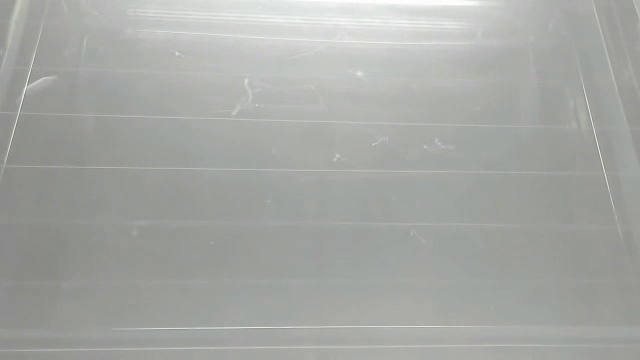alpha: (14, 74, 59, 102)
